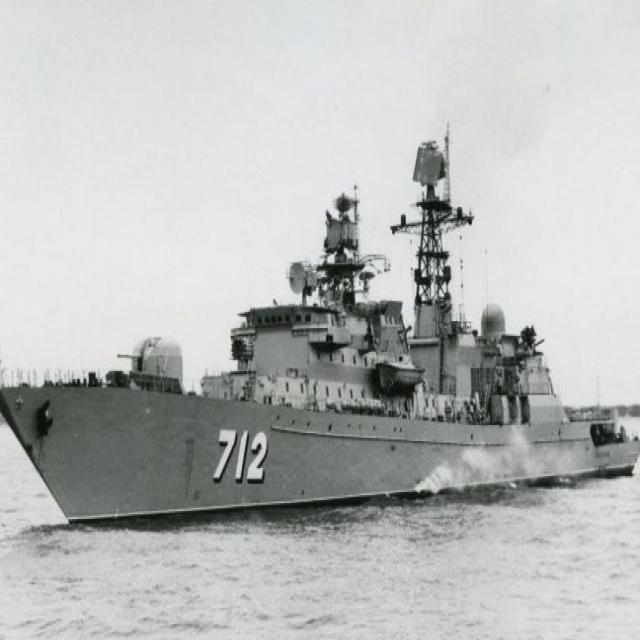Fragata: (1, 124, 640, 542)
